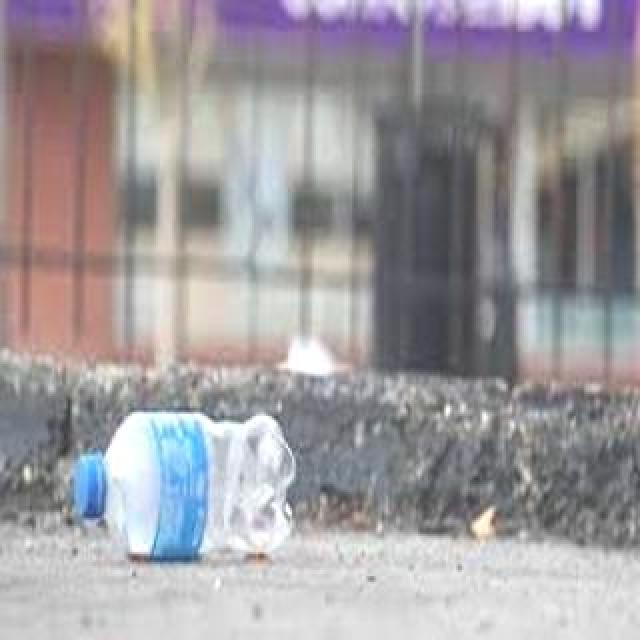Pet_Bottle: (50, 413, 306, 573)
